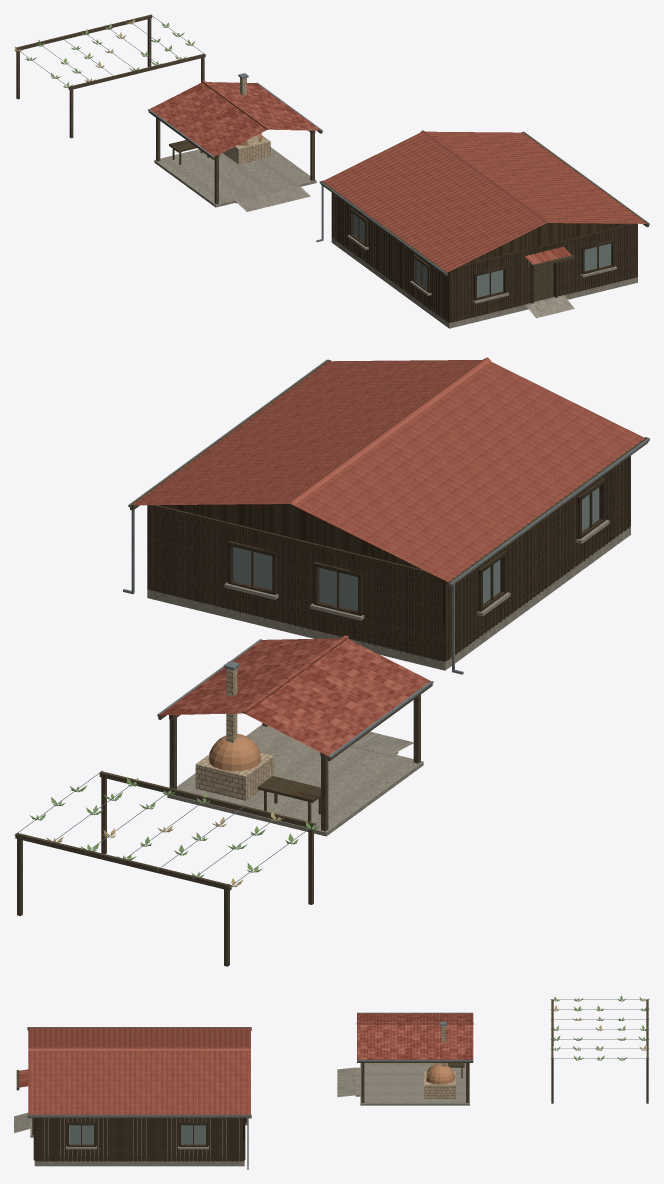
3 renders of one model, top to bottom at view 1: azimuth 30°, elevation 25°; view 2: azimuth 150°, elevation 25°; view 3: azimuth 270°, elevation 25°, orthographic. The views are drawn at different scales.
Visible parts, largest first — view 1: H14_TELHAS, H14_FACHADA, H14_RANCHO_FORNO_COBERTURA, H14_MATA_JUNTAS, H14_RANCHO_FORNO_BASE, H14_LATERAIS, H14_OITOES, H14_FUNDACAO, H14_VIDROS_RECUADOS, H14_CAIXILHOS, H14_PARREIRAL_VIGAS, H14_RANCHO_FORNO_FORNO_BASE (+9 smaller); view 2: H14_TELHAS, H14_FUNDOS, H14_RANCHO_FORNO_COBERTURA, H14_MATA_JUNTAS, H14_RANCHO_FORNO_BASE, H14_LATERAIS, H14_OITOES, H14_FUNDACAO, H14_VIDROS_RECUADOS, H14_CAIXILHOS, H14_PARREIRAL_VIGAS, H14_RANCHO_FORNO_FORNO_BASE (+9 smaller); view 3: H14_TELHAS, H14_LATERAIS, H14_RANCHO_FORNO_COBERTURA, H14_RANCHO_FORNO_BASE, H14_MATA_JUNTAS, H14_FUNDACAO, H14_BEIRAIS, H14_VIDROS_RECUADOS, H14_CALHA, H14_CUMEEIRA, H14_PARREIRAL_ARAMES, H14_RANCHO_FORNO_FORNO_BASE (+11 smaller).
Part boxes in pixels (box(x1,y1,x2,y2)): H14_TELHAS: box(323, 131, 646, 271); H14_FACHADA: box(450, 223, 636, 322); H14_RANCHO_FORNO_COBERTURA: box(149, 82, 320, 156); H14_MATA_JUNTAS: box(332, 193, 635, 322); H14_RANCHO_FORNO_BASE: box(154, 147, 316, 207); H14_LATERAIS: box(332, 193, 448, 321); H14_OITOES: box(464, 223, 630, 264); H14_FUNDACAO: box(331, 237, 637, 328); H14_VIDROS_RECUADOS: box(354, 214, 611, 297); H14_CAIXILHOS: box(350, 208, 614, 300); H14_PARREIRAL_VIGAS: box(15, 14, 205, 90); H14_RANCHO_FORNO_FORNO_BASE: box(223, 135, 270, 164); H14_TELHAS: box(133, 360, 644, 581); H14_FUNDOS: box(149, 505, 442, 661); H14_RANCHO_FORNO_COBERTURA: box(160, 638, 430, 755); H14_MATA_JUNTAS: box(151, 457, 629, 660); H14_RANCHO_FORNO_BASE: box(167, 724, 423, 836); H14_LATERAIS: box(446, 456, 629, 660); H14_OITOES: box(160, 504, 421, 569); H14_FUNDACAO: box(147, 526, 630, 670); H14_VIDROS_RECUADOS: box(233, 487, 599, 610); H14_CAIXILHOS: box(227, 478, 605, 615); H14_PARREIRAL_VIGAS: box(15, 771, 315, 890); H14_RANCHO_FORNO_FORNO_BASE: box(195, 752, 274, 800); H14_TELHAS: box(28, 1027, 250, 1114); H14_LATERAIS: box(36, 1118, 242, 1161); H14_RANCHO_FORNO_COBERTURA: box(357, 1013, 473, 1059); H14_RANCHO_FORNO_BASE: box(360, 1063, 469, 1105); H14_MATA_JUNTAS: box(33, 1118, 245, 1161); H14_FUNDACAO: box(34, 1118, 244, 1166); H14_BEIRAIS: box(27, 1027, 251, 1118); H14_VIDROS_RECUADOS: box(69, 1125, 205, 1144); H14_CALHA: box(27, 1027, 251, 1117); H14_CUMEEIRA: box(28, 1047, 250, 1050); H14_PARREIRAL_ARAMES: box(550, 999, 649, 1058); H14_RANCHO_FORNO_FORNO_BASE: box(424, 1071, 455, 1098).
Size of the model in its own units: 15.36 by 4.28 by 31.83.
13 materials, 9 textured.
